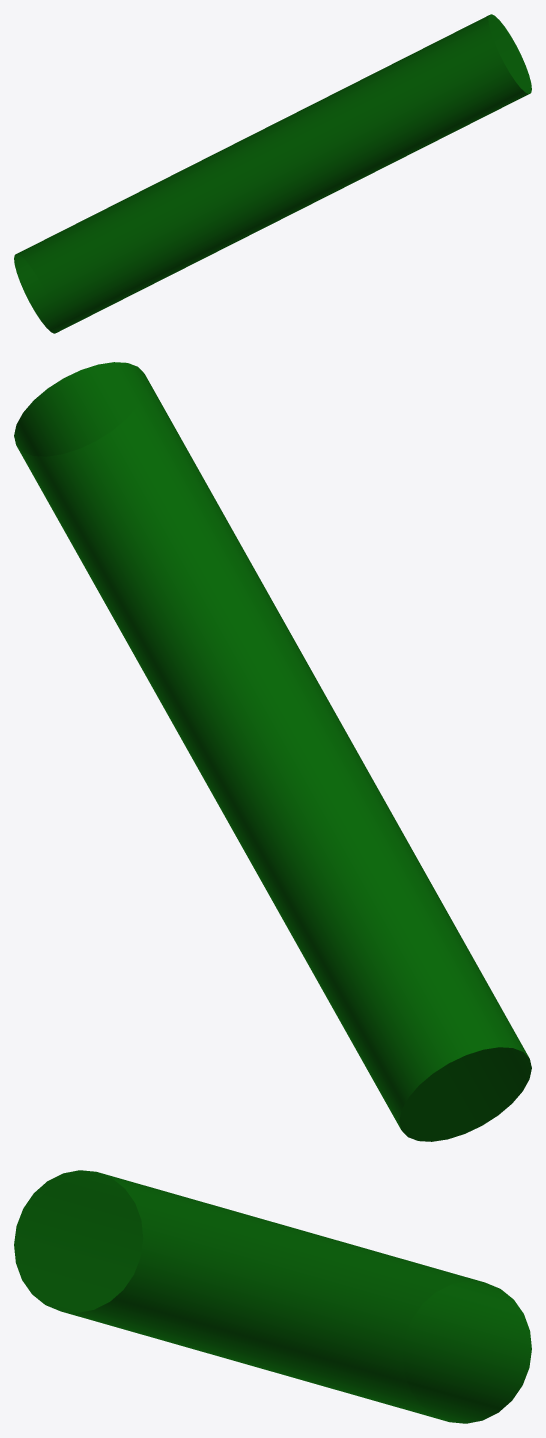
The model's file is Event_194851961_jet_2.fbx.
3 views of the same model, one above another, from view 1: azimuth 30°, elevation 25°; view 2: azimuth 150°, elevation 25°; view 3: azimuth 270°, elevation 25° (orthographic). The views are drawn at different scales.
Visible parts, largest first — view 1: Model; view 2: Model; view 3: Model.
Boxes of the visible parts, x1,y1,x2,y2 form: Model: (14,14,531,333); Model: (14,362,531,1141); Model: (14,1170,531,1423).
Bounding box in the file's own units: 0.2095 × 0.1542 × 0.1437.
